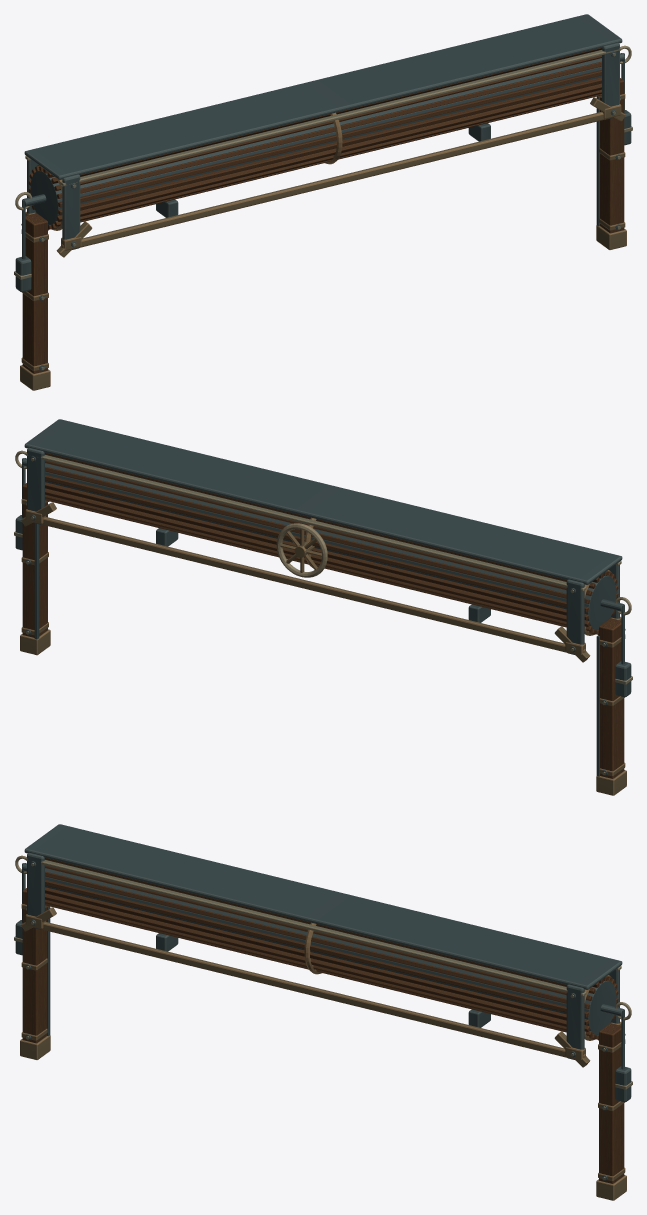
File: sluice_frame_30.glb
The picture shows the model from 3 angles, top to bottom: view 1: azimuth 30°, elevation 25°; view 2: azimuth 150°, elevation 25°; view 3: azimuth 330°, elevation 25°; orthographic projection.
Visible parts, largest first — view 1: sluice_frame_30; view 2: sluice_frame_30; view 3: sluice_frame_30.
Boxes of the visible parts, left/top/right/bottom form: sluice_frame_30: left=14, top=14, right=632, bottom=390; sluice_frame_30: left=14, top=419, right=632, bottom=795; sluice_frame_30: left=14, top=824, right=632, bottom=1200.
Bounding box in the file's own units: 33.11 × 11.25 × 4.17.
4 materials, 1 textured.
